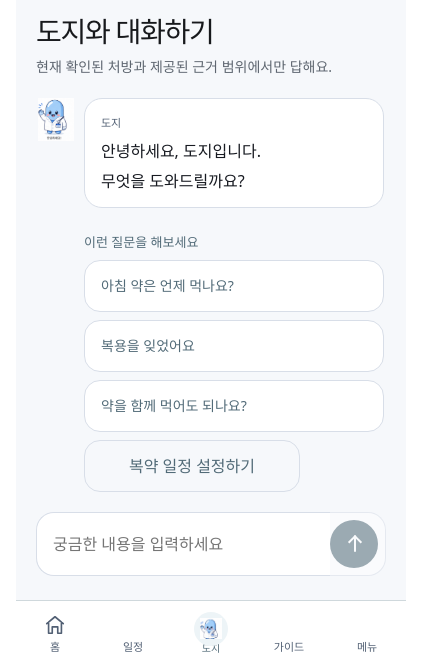
ChatPage › 대화 재시도 후에도 최초 history는 숨기고 현재 방문 USER와 ASSISTANT를 유지한다
This screenshot has width=423, height=664.
(page scrolled)
Expected: the text "무엇을 도와드릴까요?" is shown, [101, 170, 245, 192]
Step 1. Type "현재 방문에서 보낸 질문" into the text box named "복약 질문" → (183, 544), box [36, 512, 330, 576]
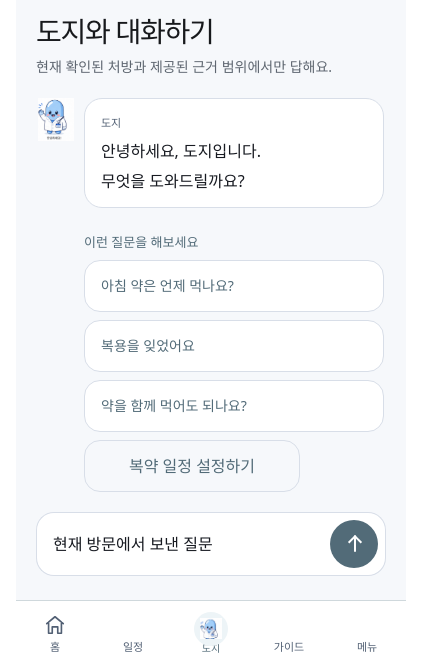
Step 2. Click the button named "질문 전송" → (354, 544), box [322, 512, 386, 576]
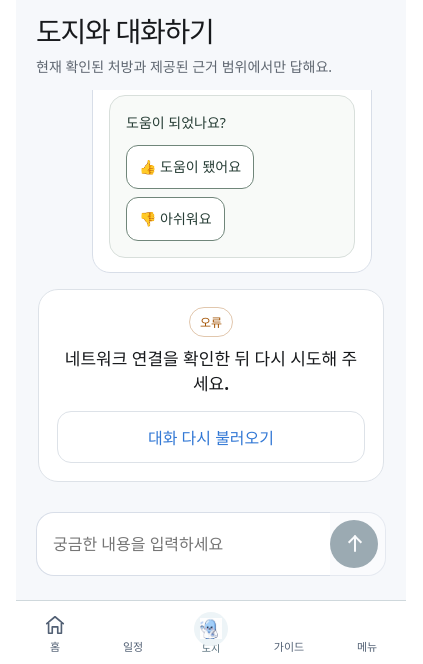
Step 3. Click the button "대화 다시 불러오기" → (211, 437), box [57, 411, 365, 463]
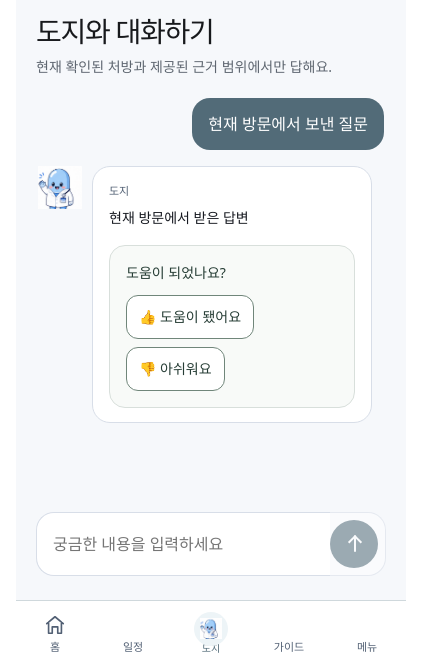
Now the text "현재 방문에서 보낸 질문" is shown once, box [192, 98, 384, 150]
Now the text "현재 방문에서 받은 답변" is shown once, box [109, 208, 249, 227]
